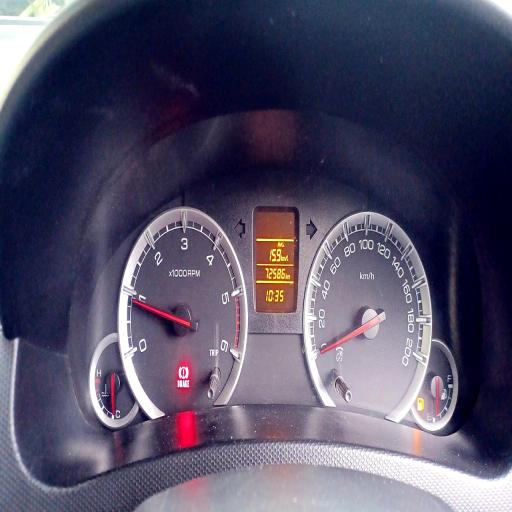brake_system_fault: (178, 366, 188, 379)
tachometer: (118, 206, 248, 420)
